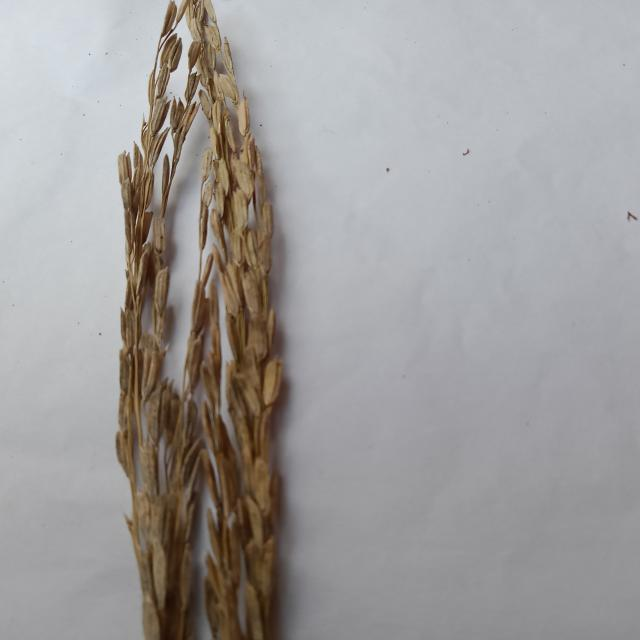Neck_Blast: (180, 3, 286, 640), (114, 3, 201, 639)
